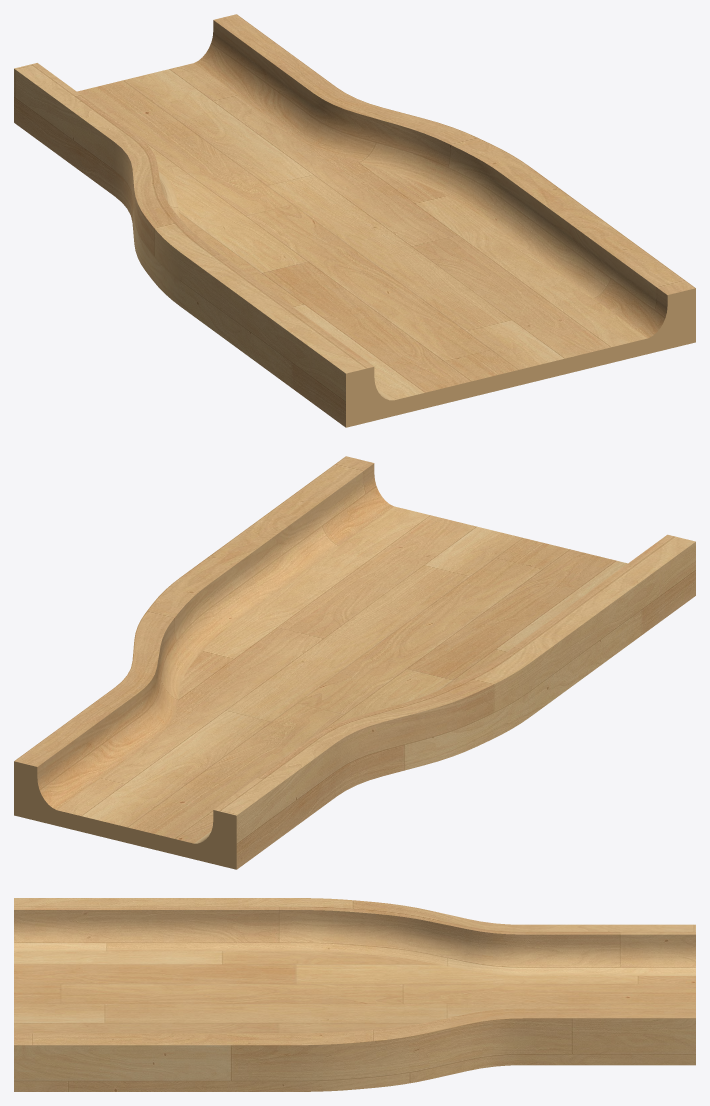
File: Road3.fbx
3 renders of one model, top to bottom at view 1: azimuth 30°, elevation 25°; view 2: azimuth 150°, elevation 25°; view 3: azimuth 270°, elevation 25°, orthographic. The views are drawn at different scales.
Visible parts, largest first — view 1: wideRoad; view 2: wideRoad; view 3: wideRoad.
Part boxes in pixels (box(x1,y1,x2,y2)): wideRoad: box(14, 14, 695, 427); wideRoad: box(14, 456, 695, 869); wideRoad: box(14, 898, 695, 1091).
Size of the model in its own units: 953 by 141 by 1866.
